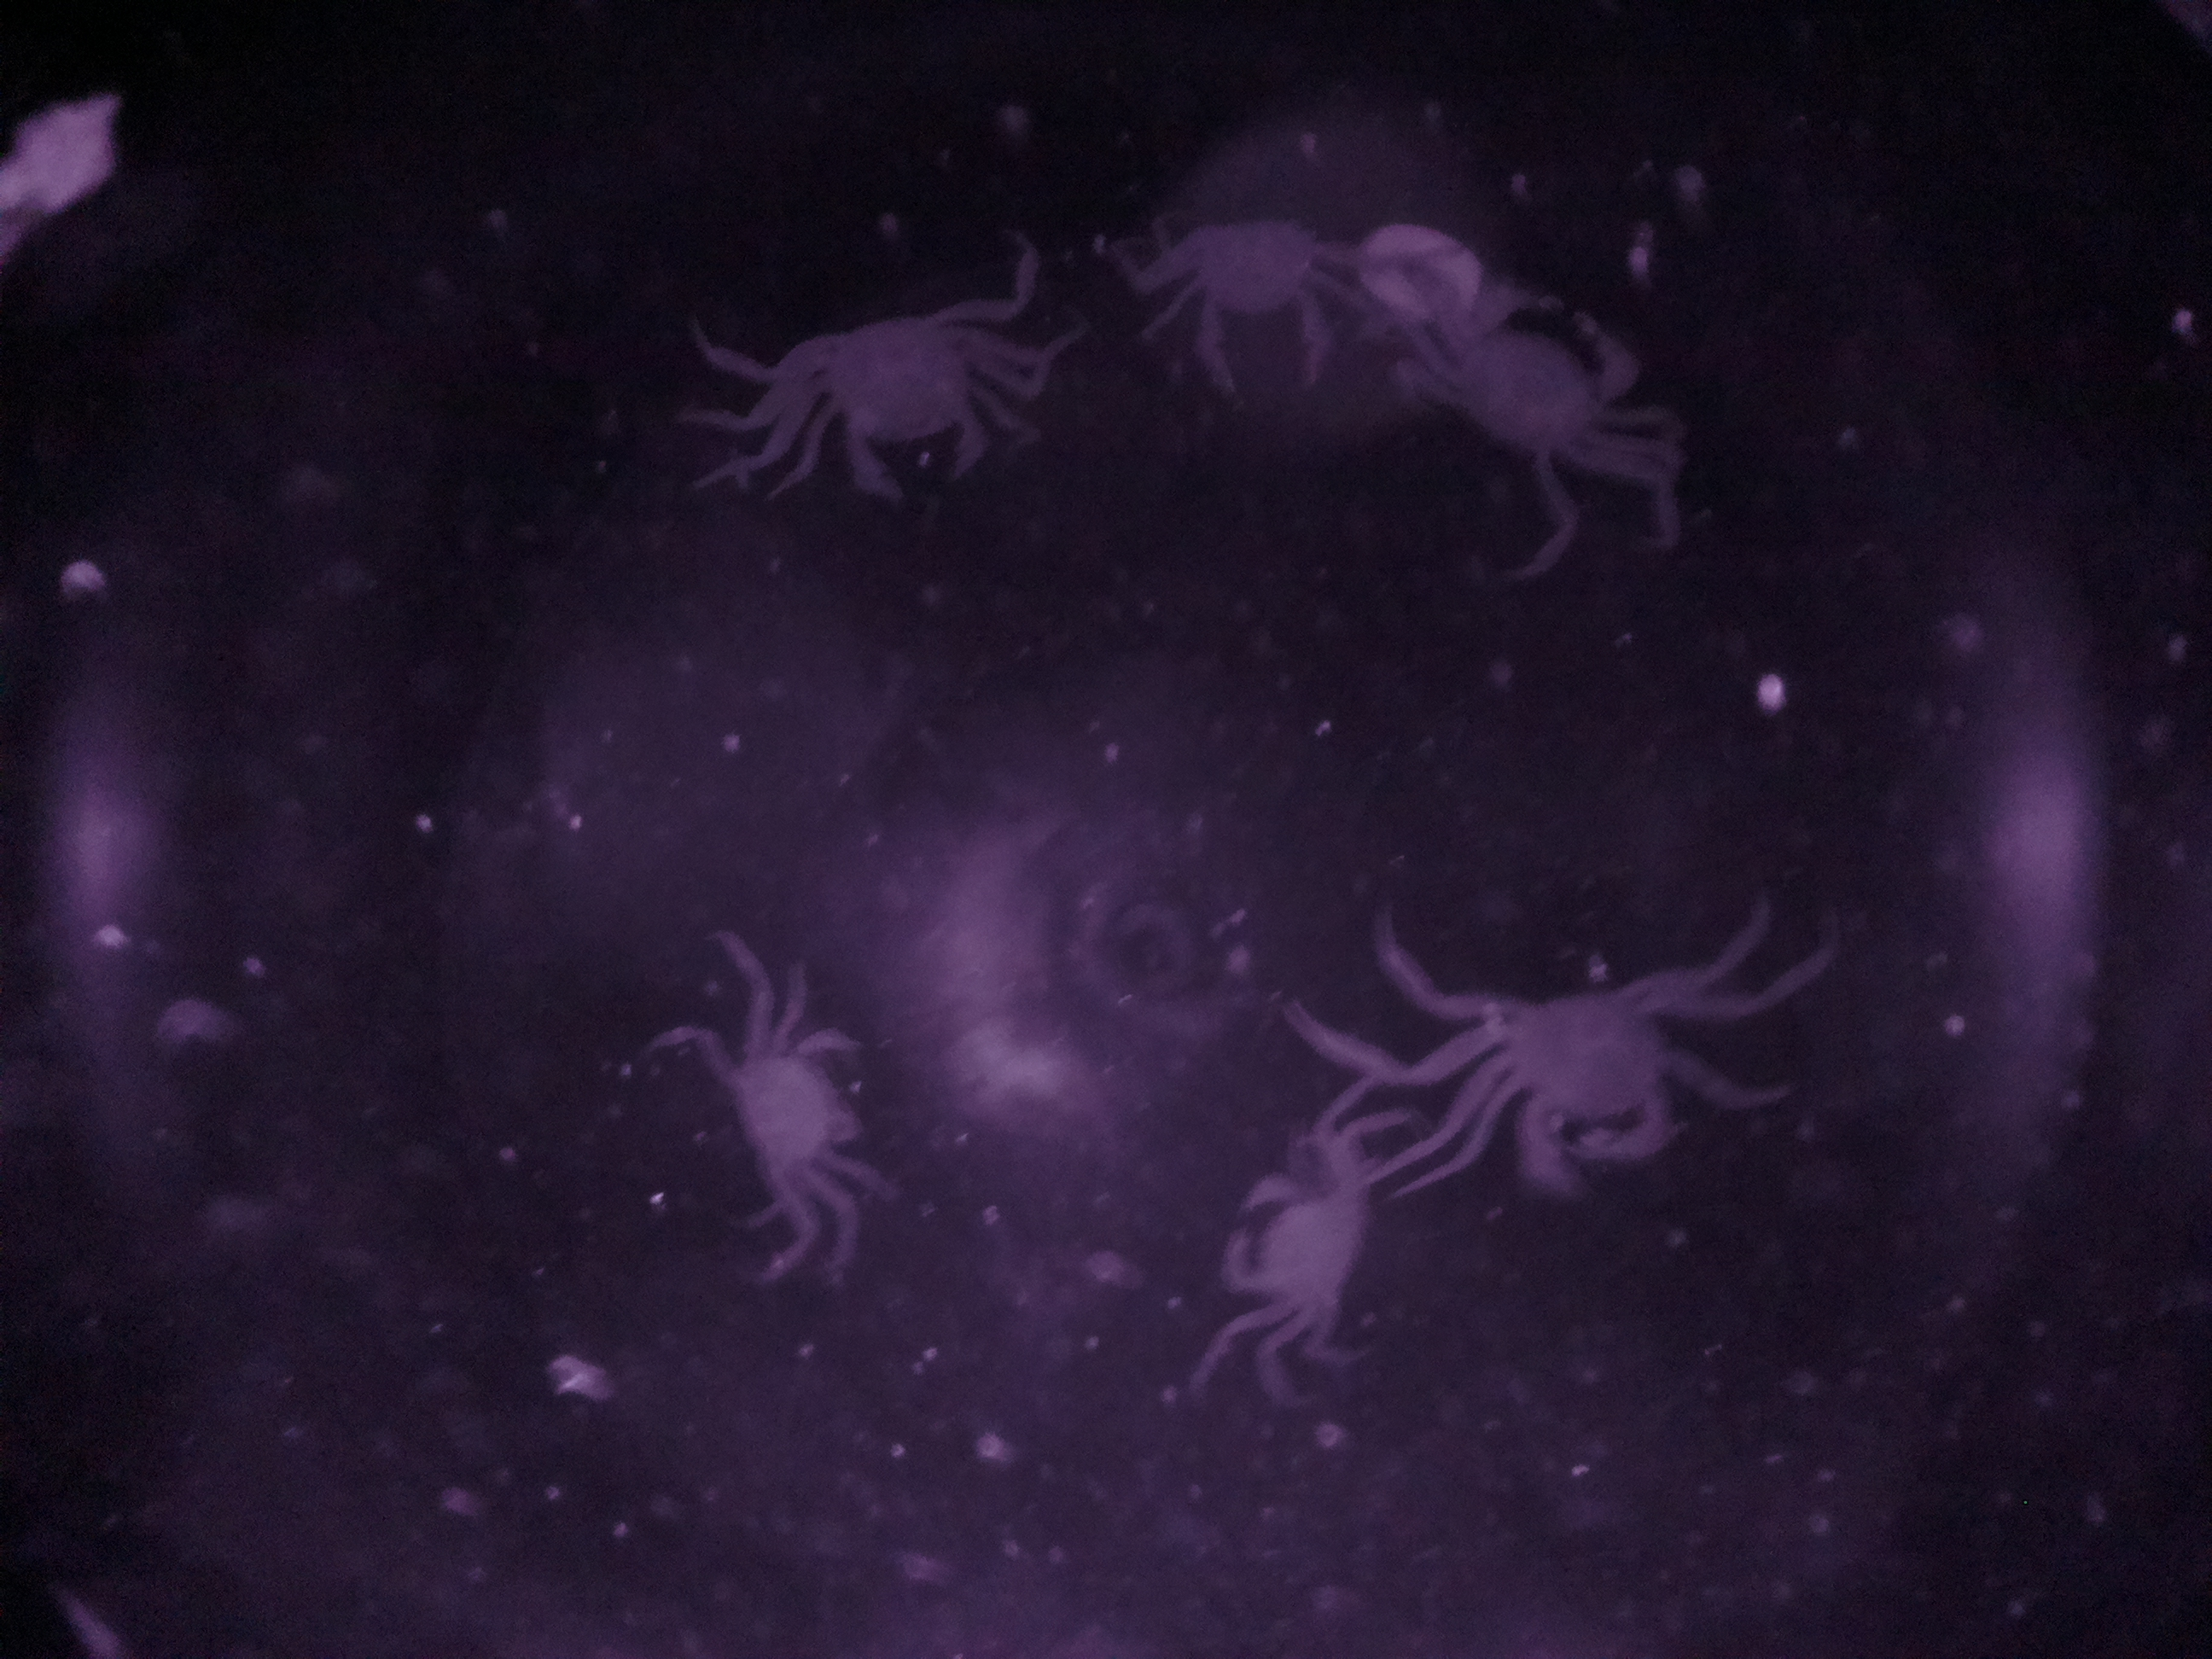Crab: (1435, 955, 1726, 1206), (773, 286, 1043, 526), (1212, 1127, 1413, 1356)
